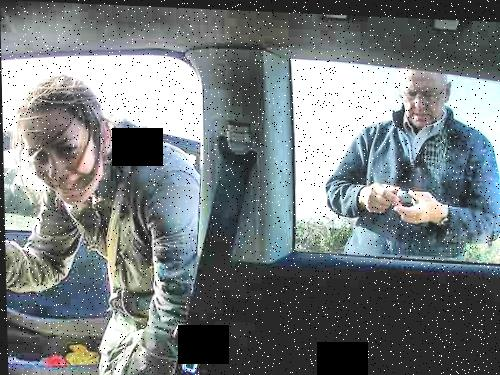seatbelt: (158, 122, 262, 364)
